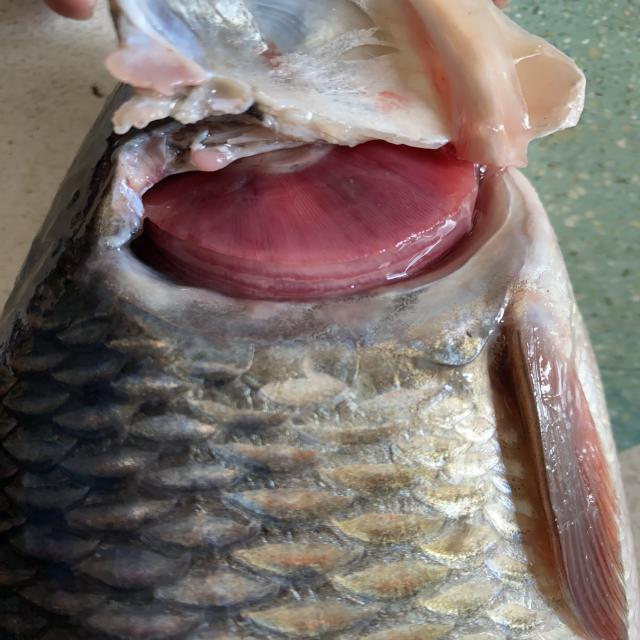Fresh: (100, 142, 529, 316)
